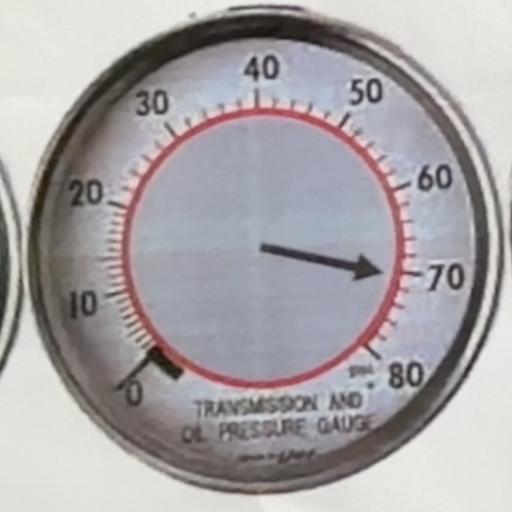needle: (250, 222, 392, 292)
